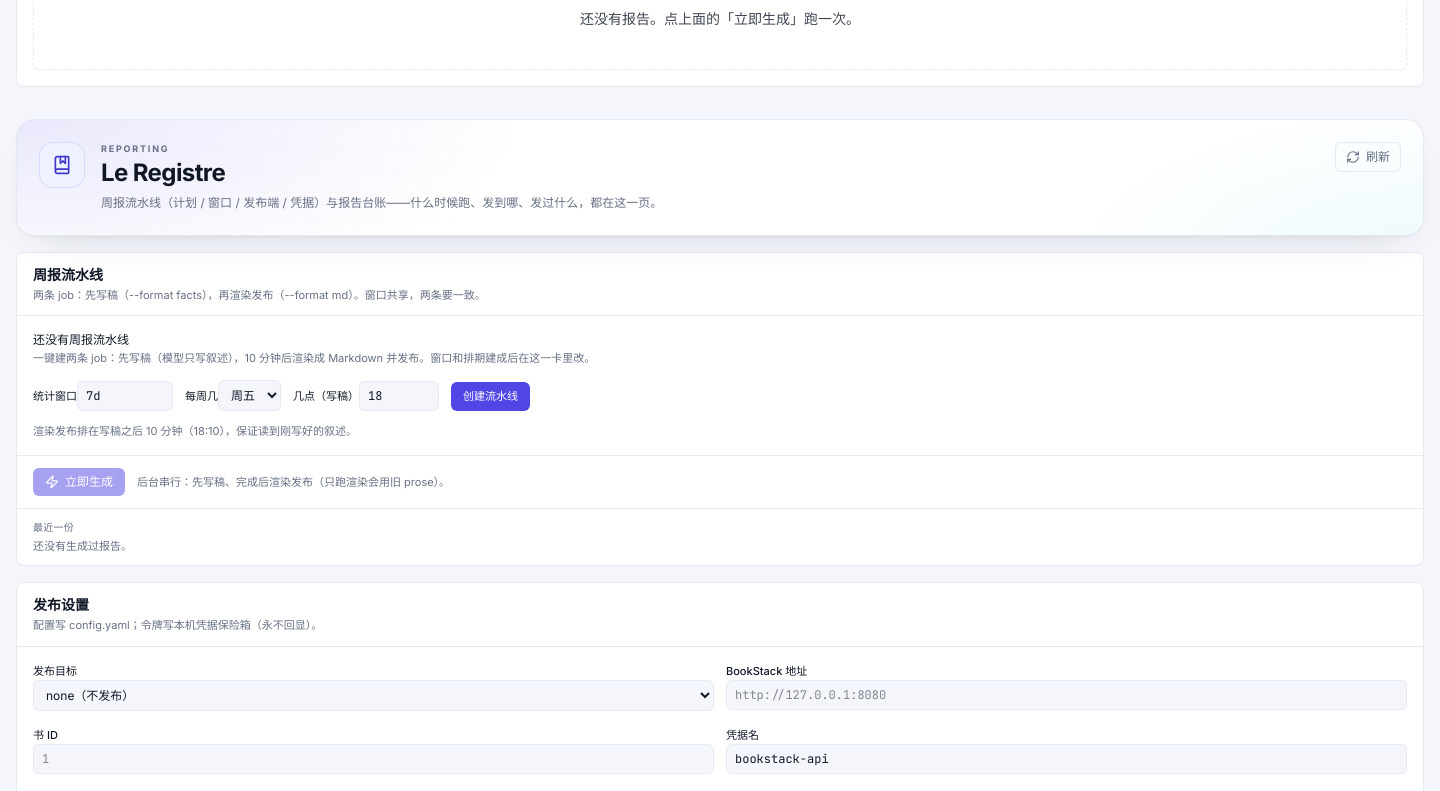
Test: RegistrePage › 空态：没有流水线 → 直接建两条（窗口/周几/几点 → 两条 job）
(page scrolled)
Expected: the element with test id "registre-pipeline-empty" is shown, [33,332,595,438]
Click the button "创建流水线": (490, 397) [451,382,530,411]
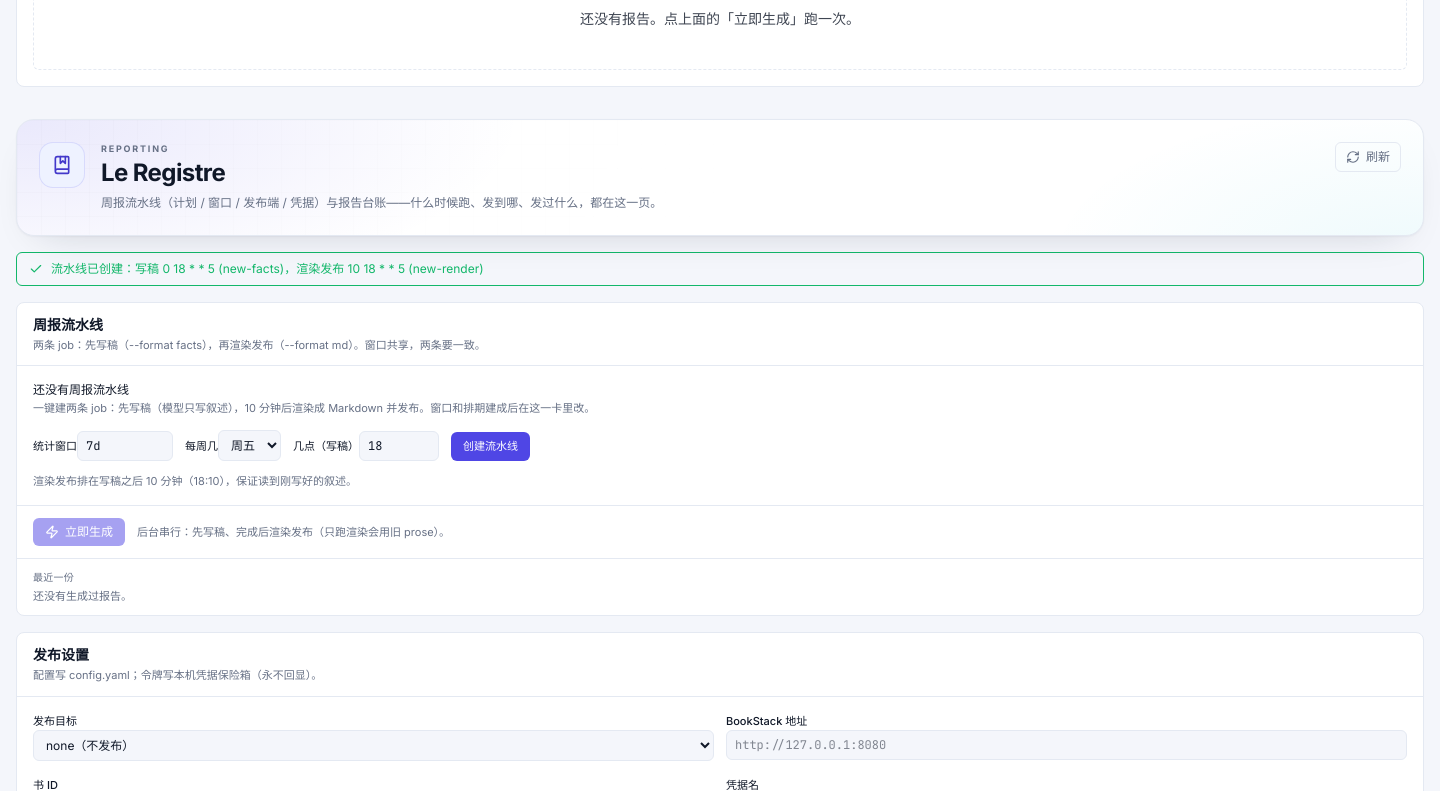
Expected: the text "流水线已创建" is shown, [51,261,484,276]
